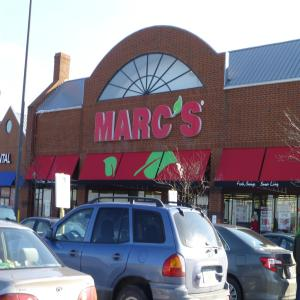Vehicle-registration-plate: (203, 268, 218, 285), (286, 266, 296, 277)
